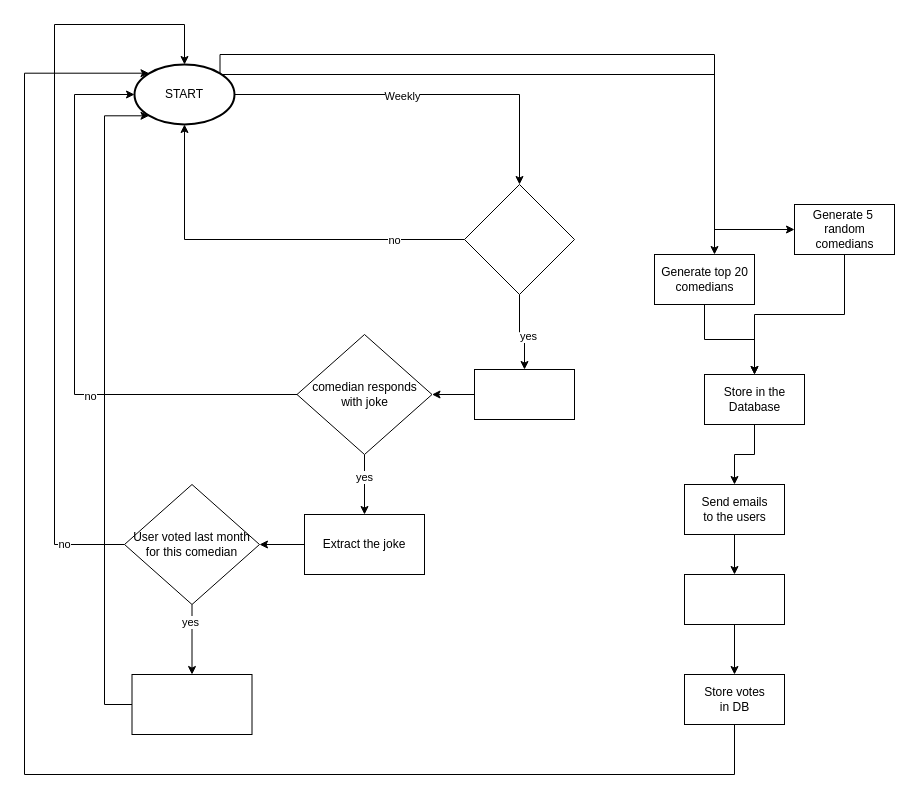
This 912x800 diagram has some shape labels left out. The shapes that lost their labels are listed below. From the top down, each one's centre as x and y in pixels, then its label:
pixel 519 239: comedian selected in daily
pixel 524 394: Send the score to comedian
pixel 734 599: Users vote comedians
pixel 191 704: Send the joke to users
